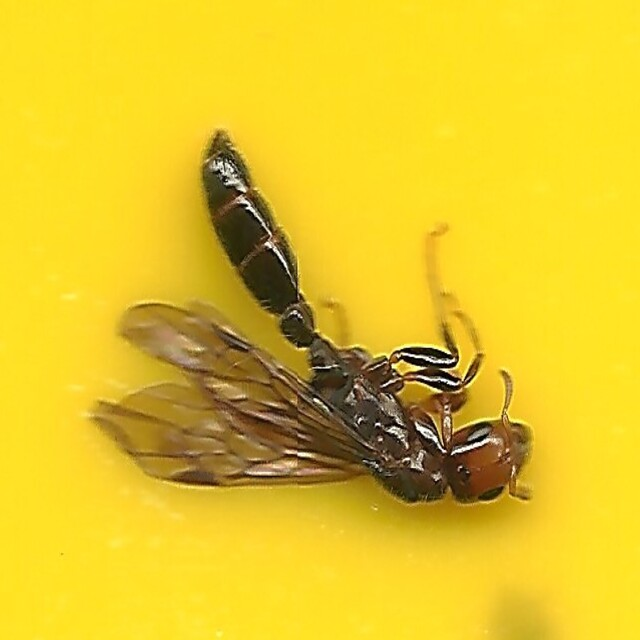Hymenoptera: (100, 129, 540, 511)
